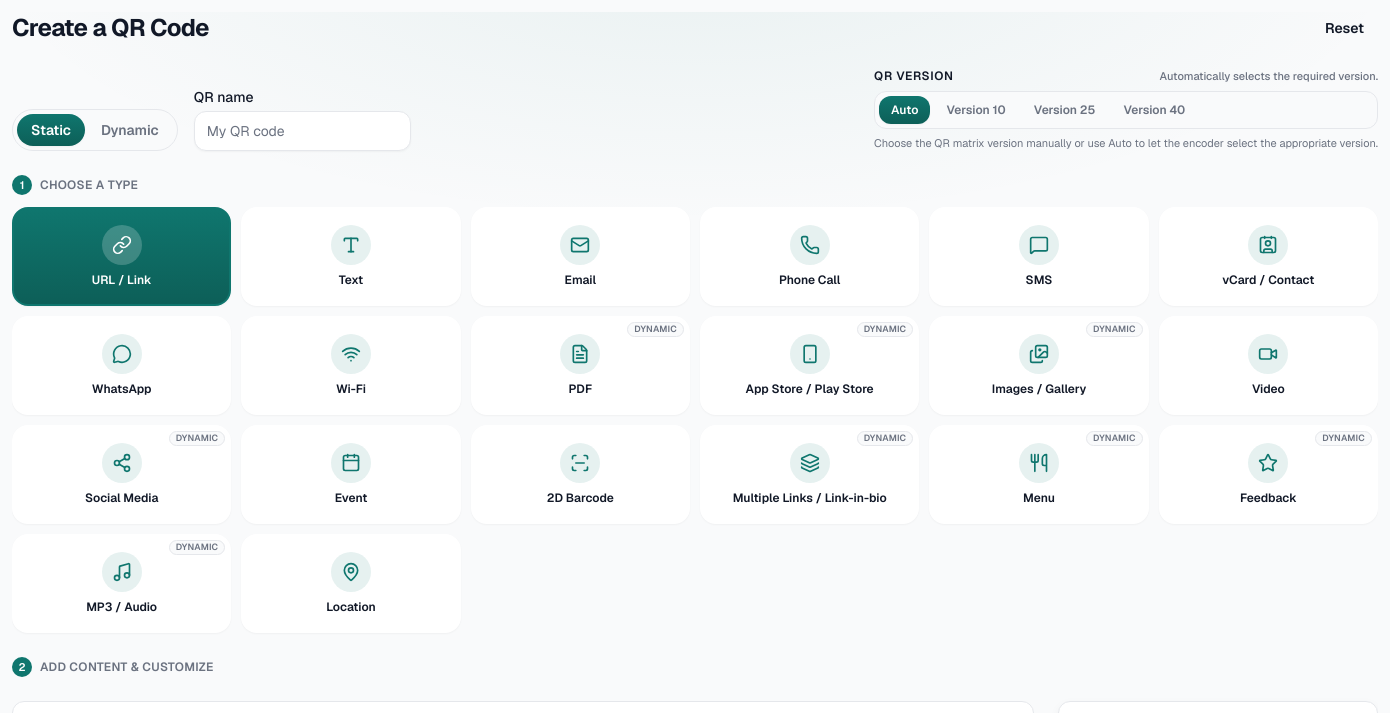
Test case: QRGeneratorShell › filters the type list when switching to dynamic mode
Expected: the option "Text" is shown, [241,207,461,306]
Click the tab "dynamic": (130, 130) [87,114,173,146]
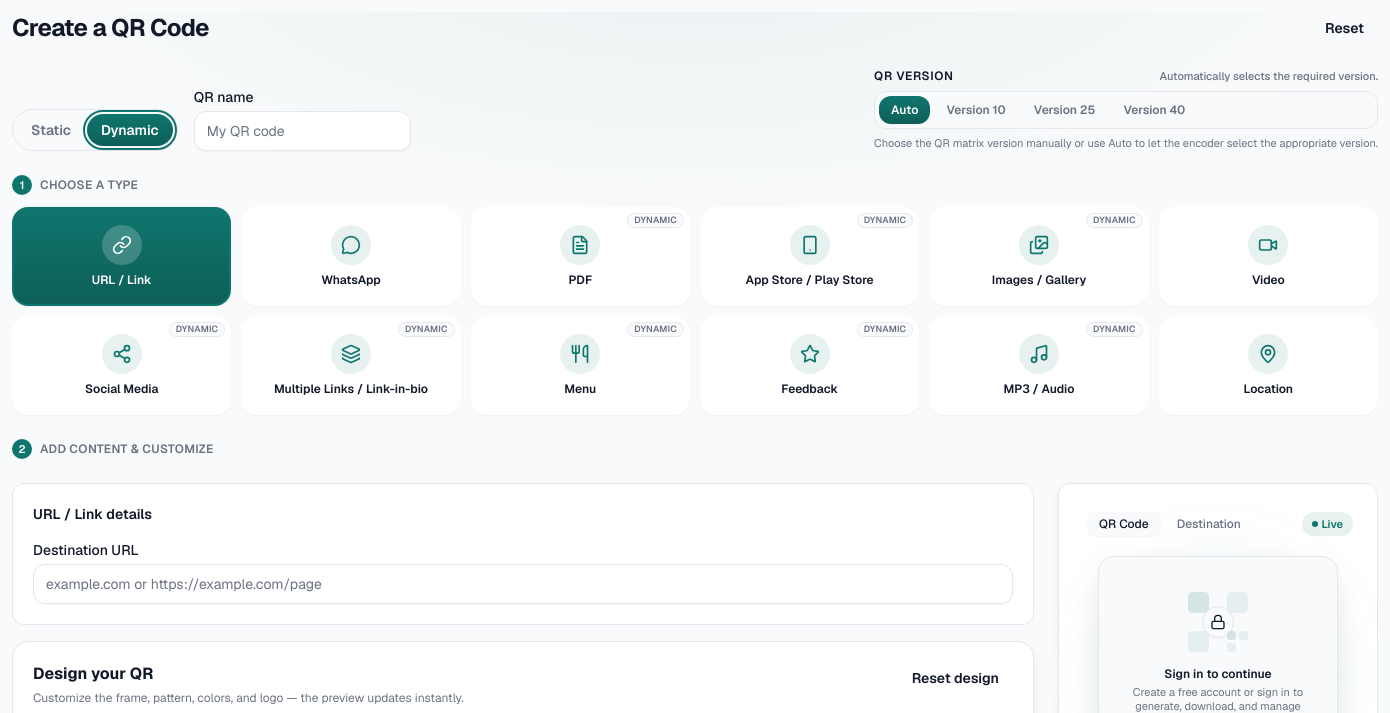
Expected: the option "Dynamic PDF" is shown, [471,207,690,306]
Expected: the option "Text" is gone
